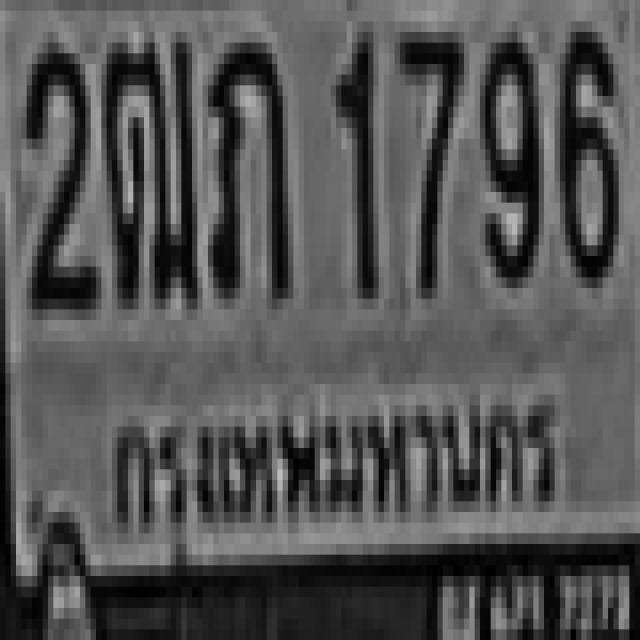1: (333, 27, 371, 293)
2: (21, 37, 91, 304)
27ThorPhuThao: (101, 32, 192, 299)
41PhorSamPhao: (206, 38, 286, 294)
6: (555, 21, 613, 278)
7: (394, 21, 458, 288)
9: (477, 21, 536, 278)
Bangkok: (90, 376, 581, 555)
